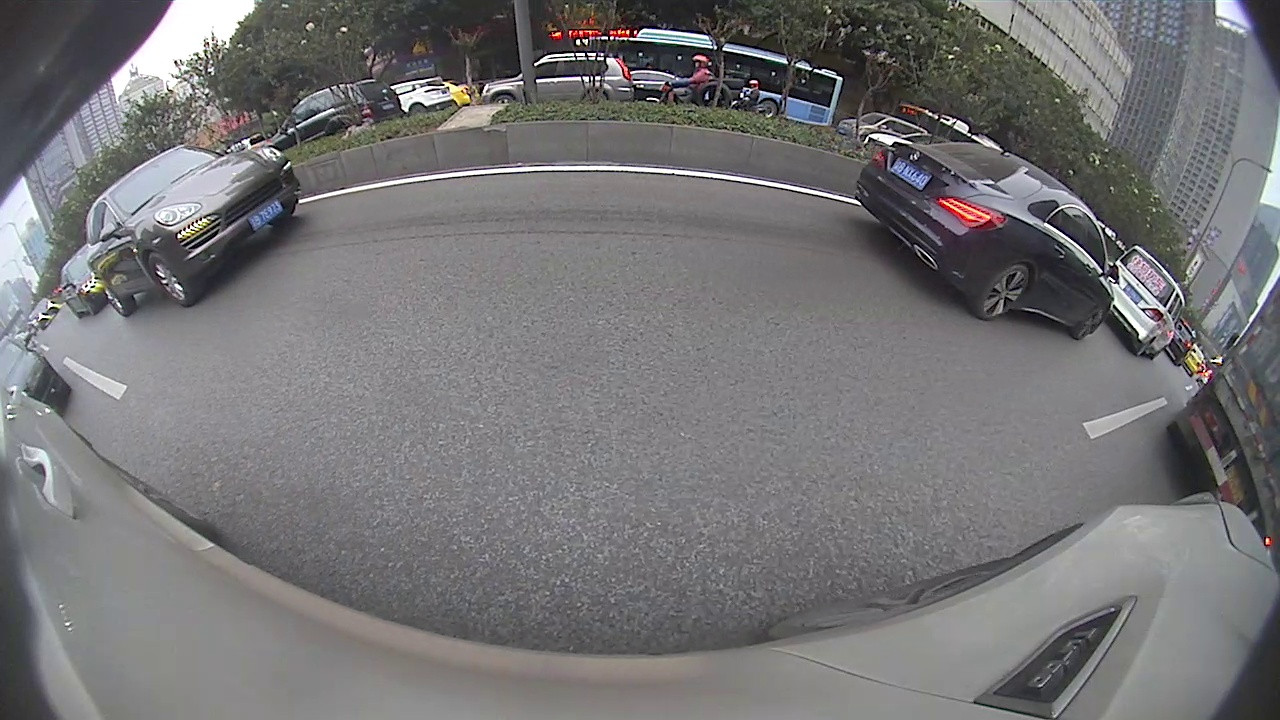car: (855, 137, 1116, 341), (87, 145, 301, 314), (1099, 248, 1184, 358)
front: (146, 252, 193, 308), (1072, 304, 1108, 340), (492, 94, 516, 113)
rear: (978, 266, 1032, 321), (98, 277, 132, 315), (759, 97, 779, 122)
